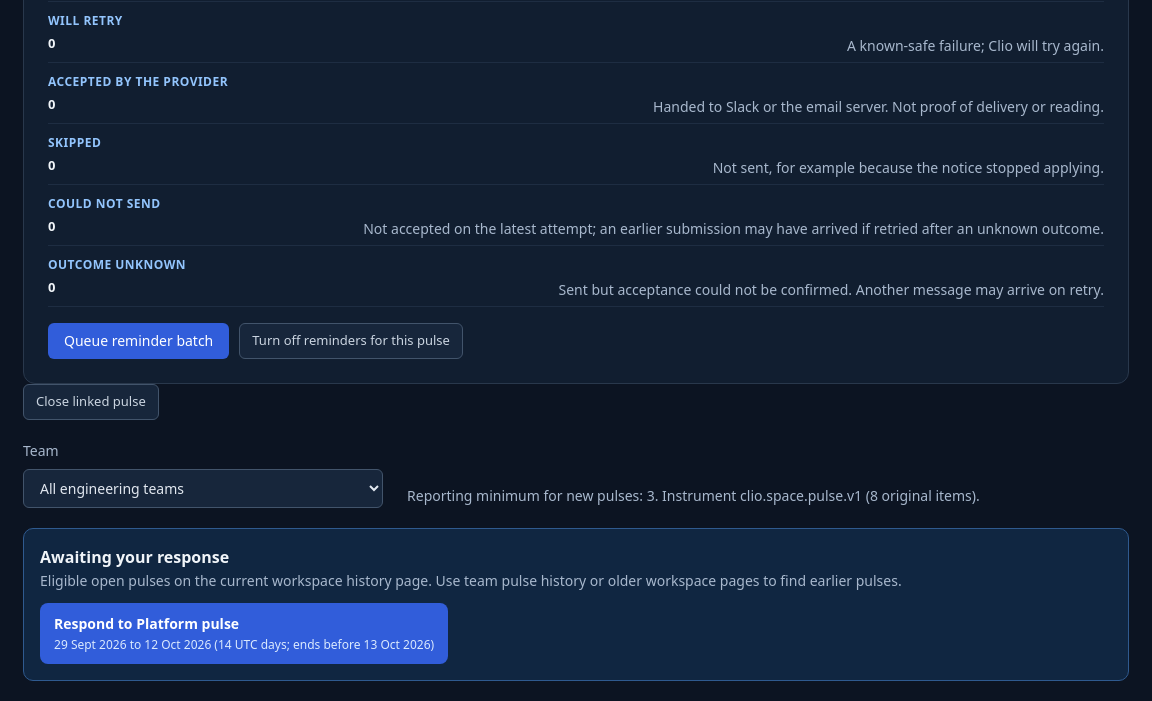
it: owner aggregate delivery controls › turns reminders off with the revision only, then hides the reminder controls
(page scrolled)
What coordinates should you click on to do the following:
click the button "Turn off reminders for this pulse"
I would click on:
 (351, 341)
Its box is [239,323,463,359].
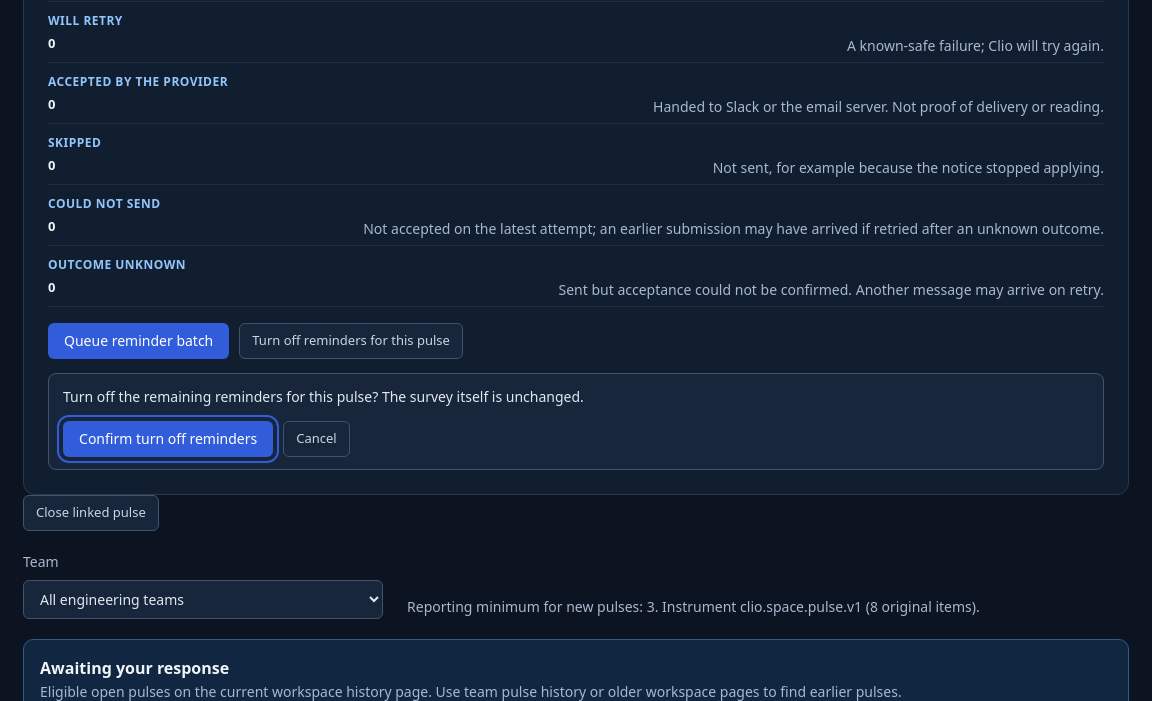
What coordinates should you click on to do the following:
click the button "Confirm turn off reminders"
I would click on:
 (168, 439)
Its box is [63,421,273,457].
(page scrolled)
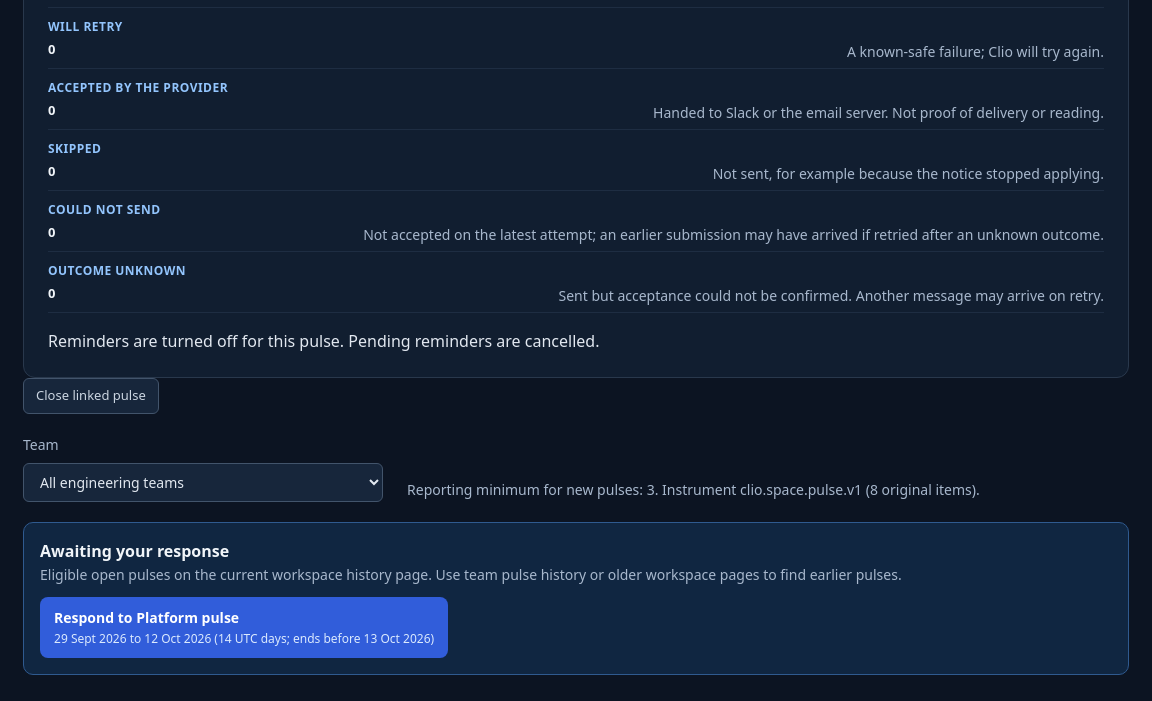
Expected: the text "Reminders are turned off for this pulse. Pending reminders are cancelled." is shown, [48,330,599,352]
Expected: the button "Queue reminder batch" is gone
